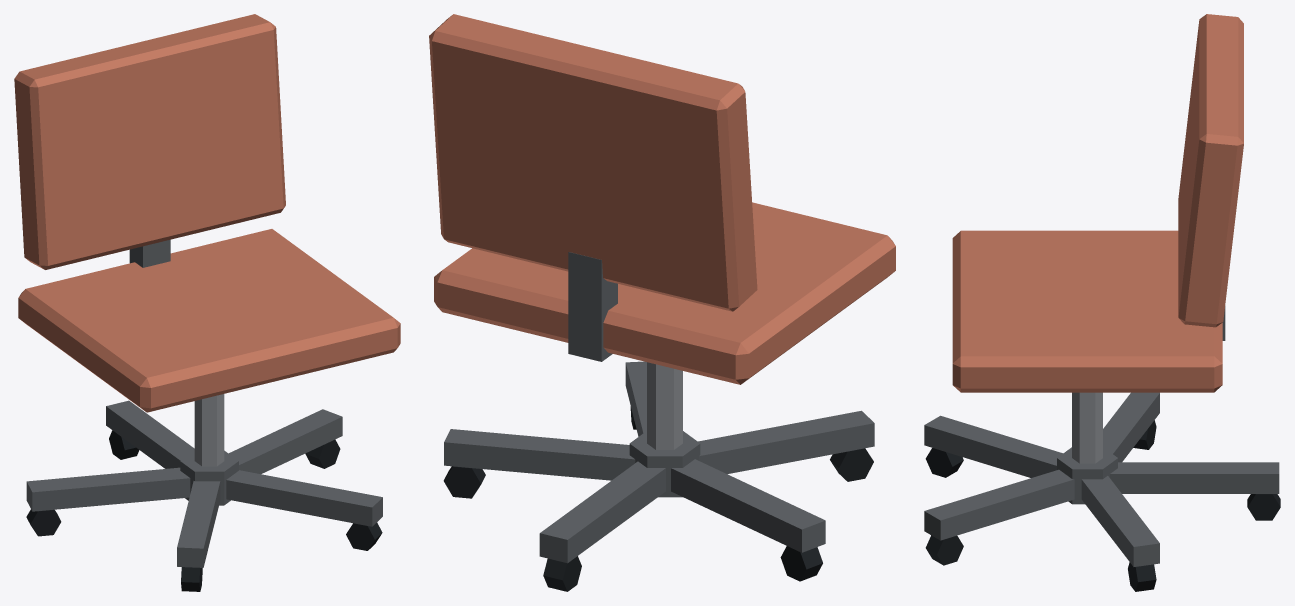
The model's file is office-chair-10.glb.
3 renders of one model, left to right at view 1: azimuth 30°, elevation 25°; view 2: azimuth 150°, elevation 25°; view 3: azimuth 270°, elevation 25°, orthographic. The views are drawn at different scales.
Parts seen in each view (by area): view 1: office_chair_10; view 2: office_chair_10; view 3: office_chair_10.
Part boxes in pixels (left/top/right/bottom): office_chair_10: left=14, top=14, right=400, bottom=591; office_chair_10: left=429, top=14, right=895, bottom=591; office_chair_10: left=924, top=14, right=1280, bottom=591.
Size of the model in its own units: 0.6727 by 0.8791 by 0.6421.
